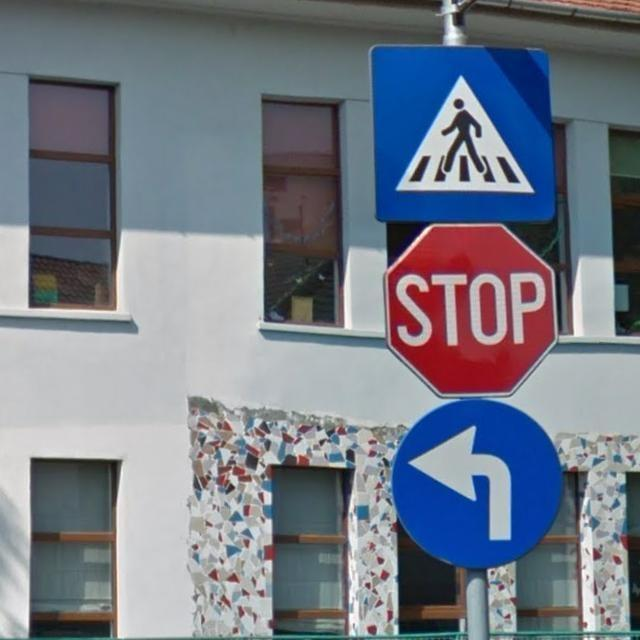info_crosswalk: (367, 41, 561, 224)
prio_stop: (382, 221, 555, 396)
